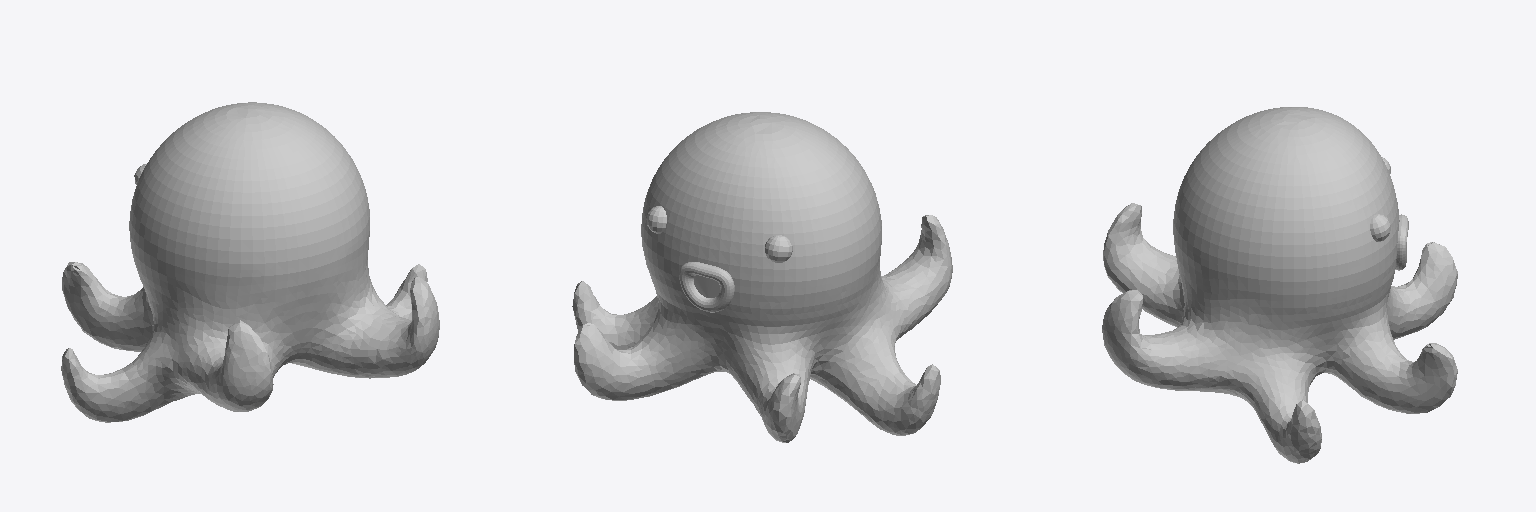
The model's file is squid.obj.
3 renders of one model, left to right at view 1: azimuth 30°, elevation 25°; view 2: azimuth 150°, elevation 25°; view 3: azimuth 270°, elevation 25°, orthographic.
Parts seen in each view (by area): view 1: Sphere; view 2: Sphere, Torus, Sphere.002; view 3: Sphere, Torus.
Boxes of the visible parts, x1,y1,x2,y2 form: Sphere: [61, 102, 439, 422]; Sphere: [572, 112, 952, 442]; Torus: [679, 262, 734, 312]; Sphere.002: [646, 206, 792, 262]; Sphere: [1102, 107, 1457, 463]; Torus: [1395, 214, 1408, 270].
Size of the model in its own units: 3.44 by 2.5 by 2.93.